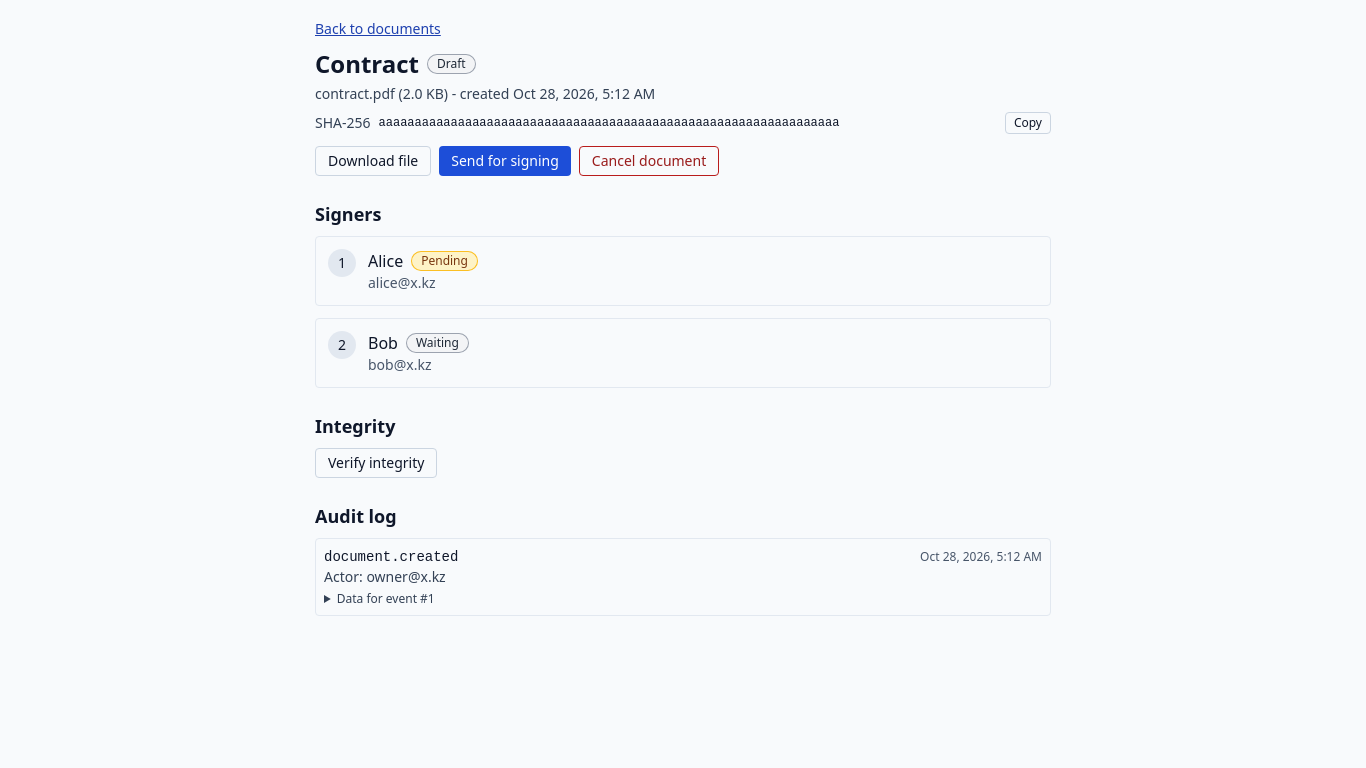
it: document detail › send displays only the first one-time link with a warning and closes on Escape
Click the button "Send for signing" at coordinates (505, 161), box [439,146,571,176]
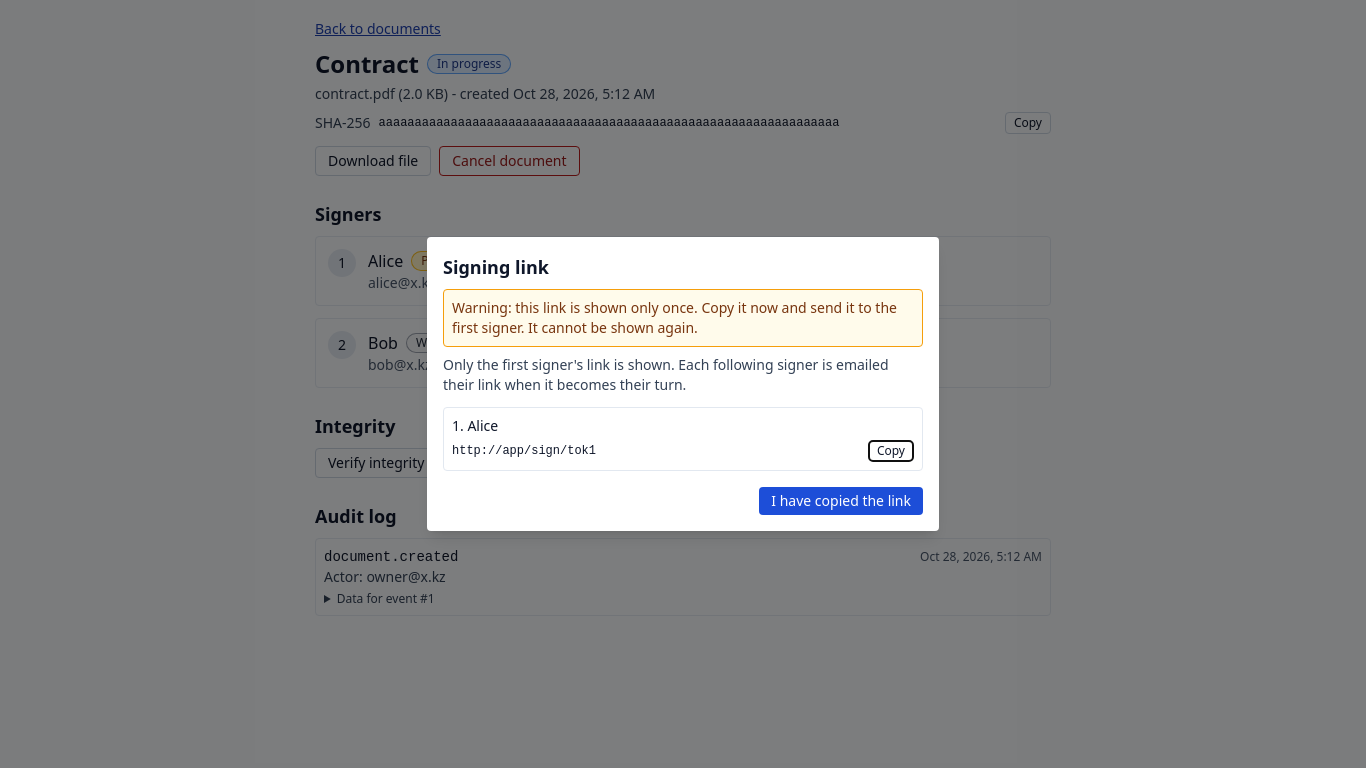
Expected: the text "http://app/sign/tok1" is shown, [452,444,596,458]
Expected: the 1st message shows "only once", [452,298,897,337]
Expected: the text "following signer is emailed their link" is shown, [443,355,889,394]
Press Escape
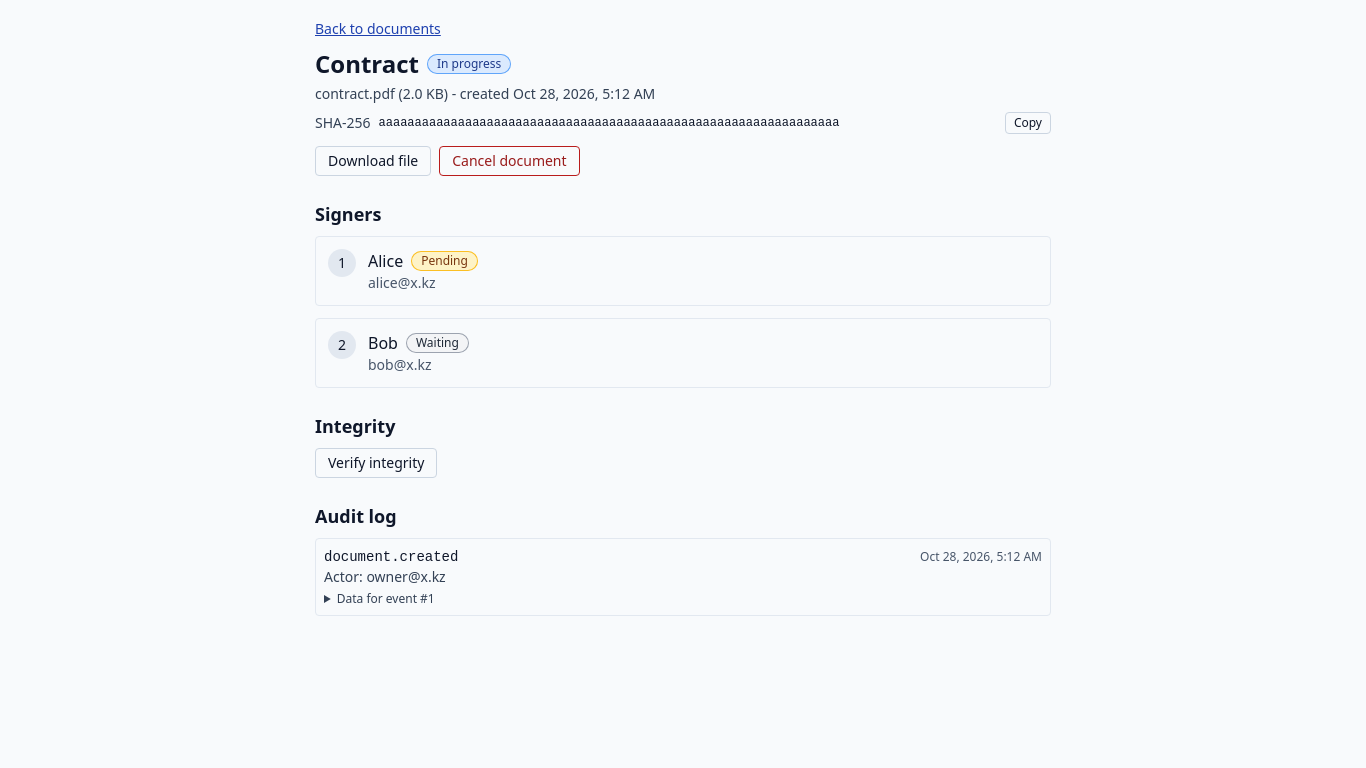
Expected: the button "Send for signing" is not shown
Expected: the dialog is gone
